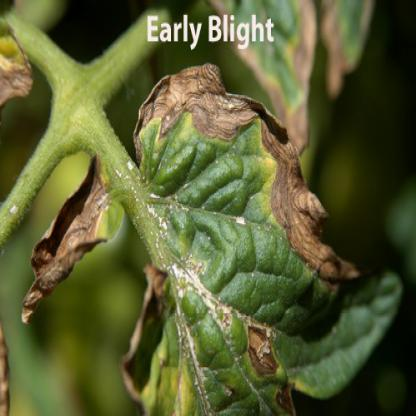Tomato Early blight leaf: (56, 69, 325, 410)
